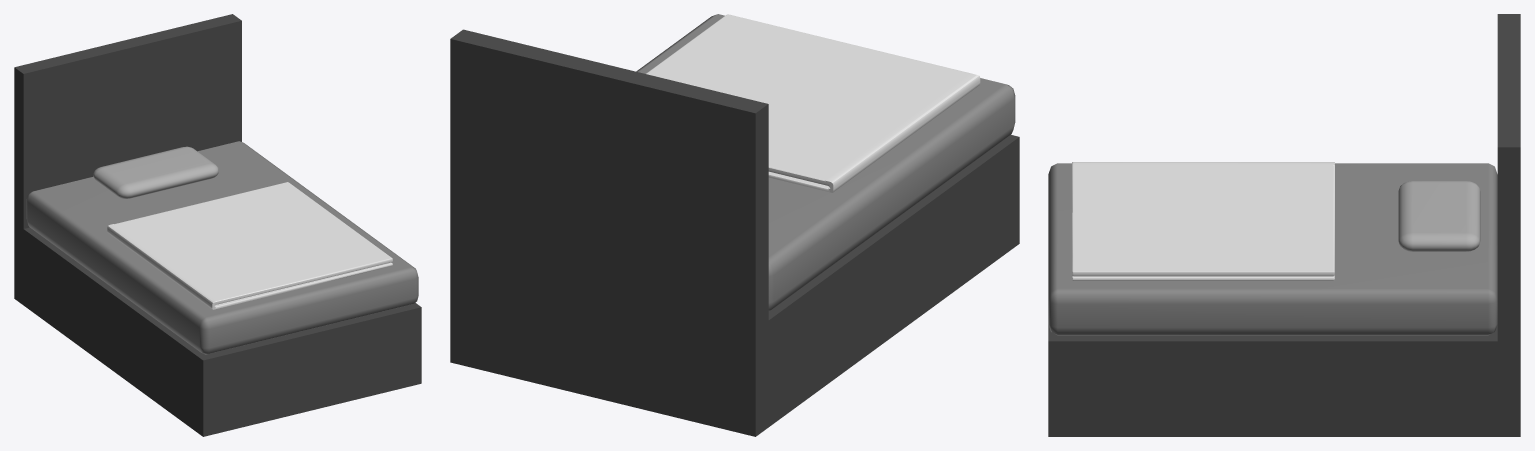
File: Orellian_Desk_01.fbx
3 views of the same model, side by side, from view 1: azimuth 30°, elevation 25°; view 2: azimuth 150°, elevation 25°; view 3: azimuth 270°, elevation 25° (orthographic). The views are drawn at different scales.
Parts seen in each view (by area): view 1: Orellian_Bed_01; view 2: Orellian_Bed_01; view 3: Orellian_Bed_01.
Part boxes in pixels (x1,y1,x2,y2): Orellian_Bed_01: (14, 14, 421, 436); Orellian_Bed_01: (450, 14, 1019, 436); Orellian_Bed_01: (1048, 14, 1520, 436).
Bounding box in the file's own units: 2.22 × 2.25 × 3.33.
